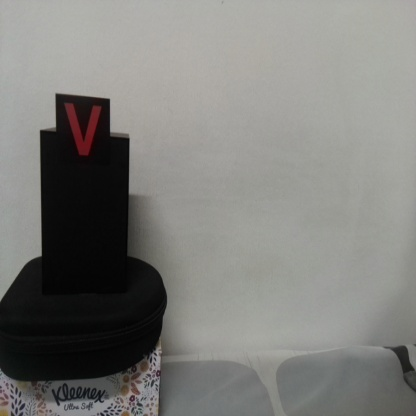id_11: (55, 93, 111, 167)
